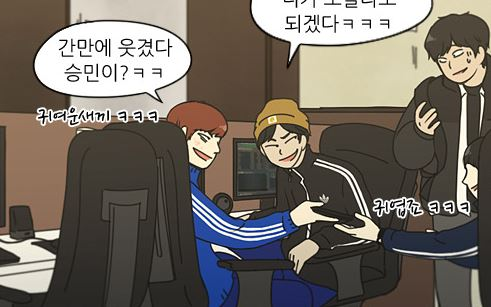hat: (251, 98, 312, 137)
